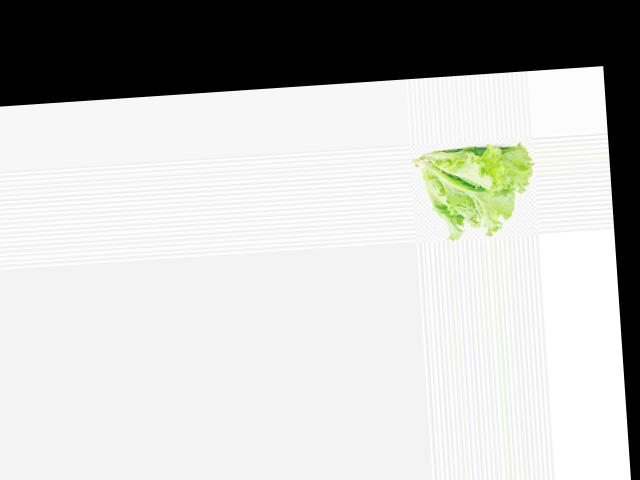lettuce: (410, 144, 537, 242)
